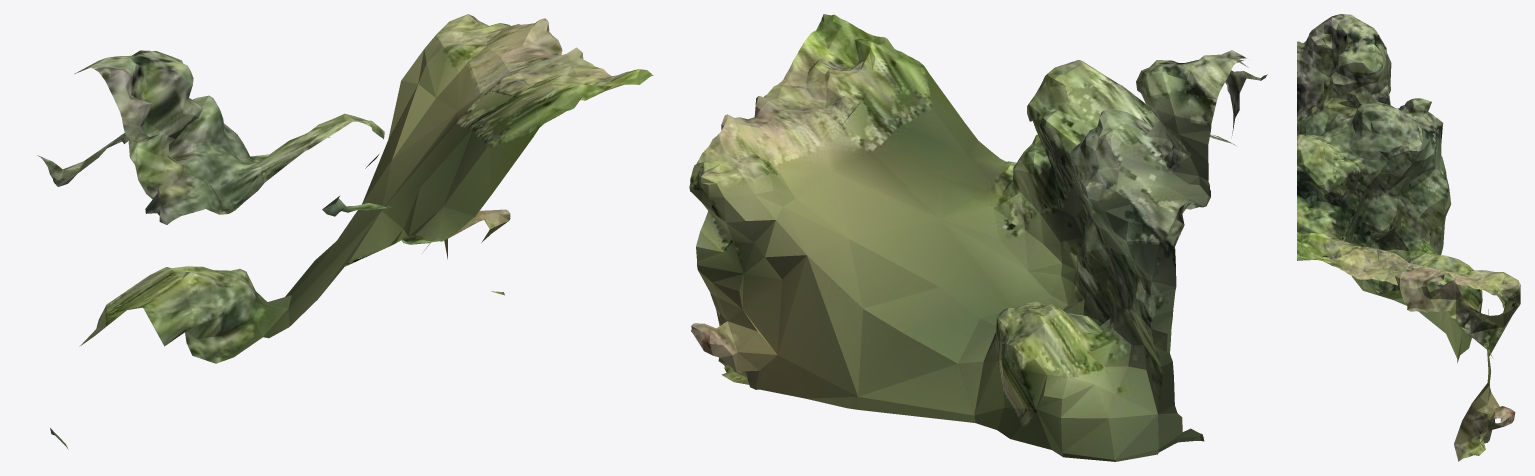
The picture shows the model from 3 angles, left to right: view 1: azimuth 30°, elevation 25°; view 2: azimuth 150°, elevation 25°; view 3: azimuth 270°, elevation 25°; orthographic projection. The views are drawn at different scales.
Bounding box in the file's own units: 26.11 × 19.97 × 14.51.
3 materials, 3 textured.
